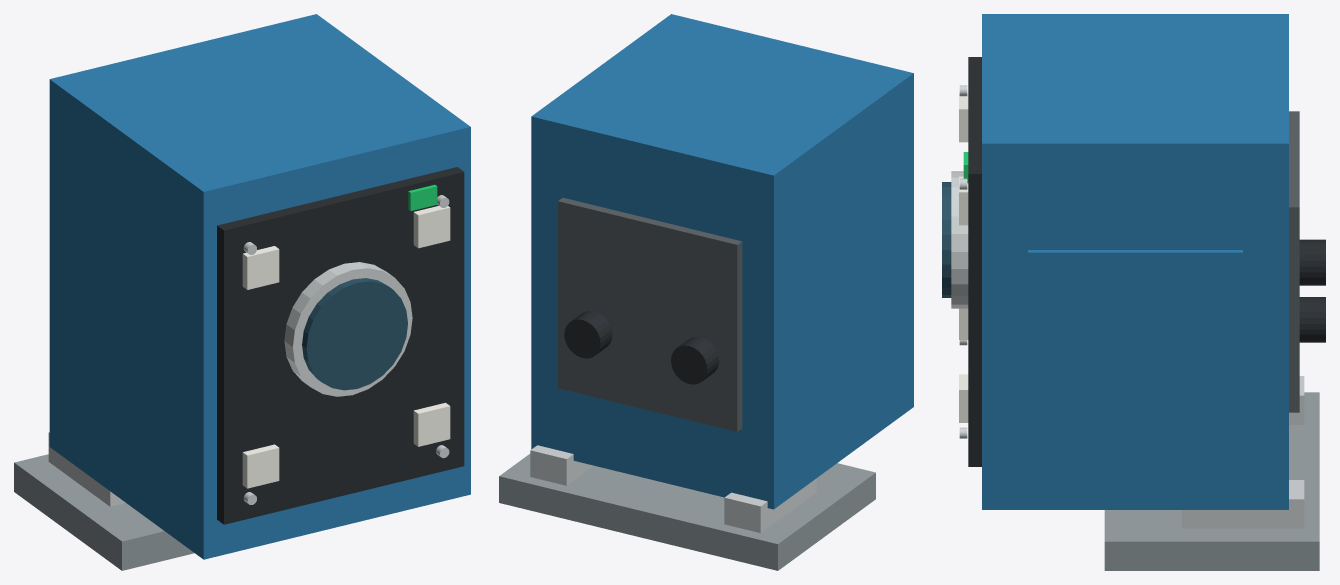
3 renders of one model, left to right at view 1: azimuth 30°, elevation 25°; view 2: azimuth 150°, elevation 25°; view 3: azimuth 270°, elevation 25°, orthographic. The views are drawn at different scales.
Parts seen in each view (by area): view 1: housing, front bezel, optical lens, Mount bracket, lens surround, illumination emitter, illumination emitter.002, illumination emitter.003, illumination emitter.001, mounting flange, status indicator; view 2: housing, Rear connector plate, Mount bracket, mounting flange, Electrical connector.001, Electrical connector, mounting flange.001; view 3: housing, blue side label, Mount bracket, front bezel, Rear connector plate, mounting flange.001, lens surround, Electrical connector, Electrical connector.001, optical lens, illumination emitter.002.
Boxes of the visible parts, x1,y1,x2,y2 form: housing: [49, 14, 470, 559]; front bezel: [217, 167, 464, 524]; optical lens: [302, 278, 407, 390]; Mount bracket: [14, 454, 194, 570]; lens surround: [284, 262, 412, 396]; illumination emitter: [242, 444, 279, 488]; illumination emitter.002: [413, 402, 450, 446]; illumination emitter.003: [413, 206, 450, 248]; illumination emitter.001: [242, 246, 279, 289]; mounting flange: [48, 432, 125, 506]; status indicator: [408, 184, 437, 210]; housing: [531, 14, 913, 509]; Rear connector plate: [558, 197, 742, 431]; Mount bracket: [499, 454, 875, 570]; mounting flange: [724, 478, 816, 533]; Electrical connector.001: [564, 310, 612, 358]; Electrical connector: [671, 337, 719, 384]; mounting flange.001: [530, 445, 593, 485]; housing: [982, 14, 1288, 509]; blue side label: [1028, 250, 1242, 406]; Mount bracket: [1104, 392, 1319, 570]; front bezel: [968, 57, 981, 466]; Rear connector plate: [1289, 111, 1299, 412]; mounting flange.001: [1181, 480, 1304, 528]; lens surround: [951, 171, 968, 308]; Electrical connector: [1299, 239, 1325, 285]; Electrical connector.001: [1299, 297, 1325, 342]; optical lens: [942, 182, 951, 297]; illumination emitter.002: [959, 374, 968, 422].
Bounding box in the file's own units: 0.2185 × 0.285 × 0.2375.
